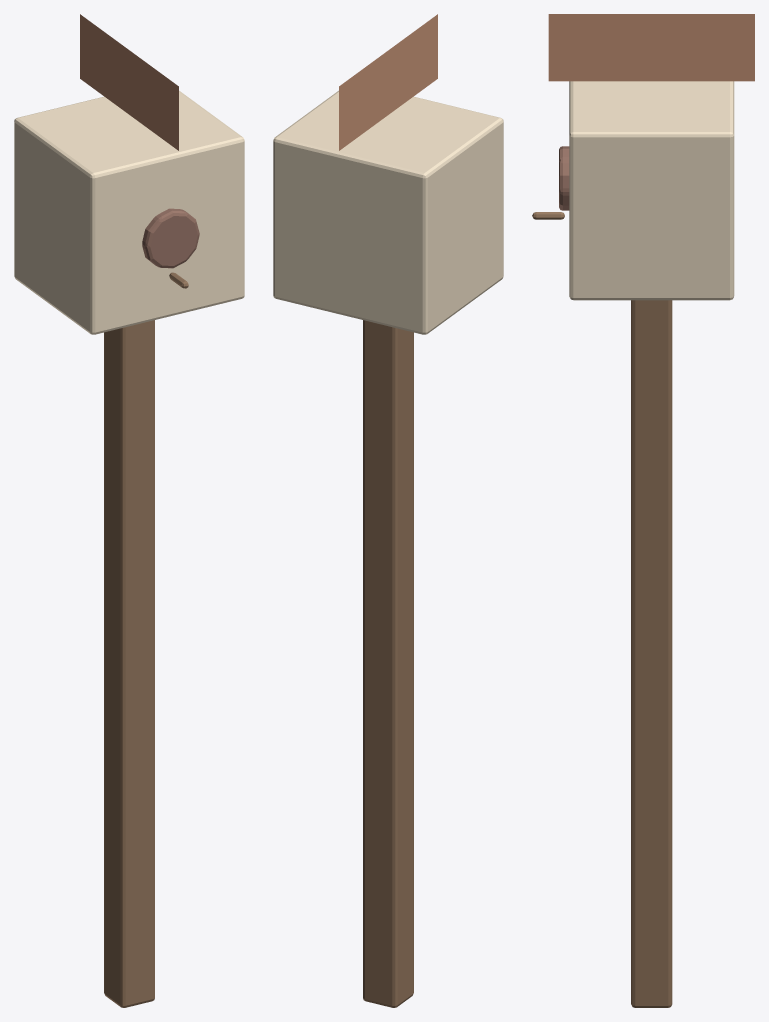
File: birdhouse.glb
3 renders of one model, left to right at view 1: azimuth 30°, elevation 25°; view 2: azimuth 150°, elevation 25°; view 3: azimuth 270°, elevation 25°, orthographic. The views are drawn at different scales.
Visible parts, largest first — view 1: Birdhouse; view 2: Birdhouse; view 3: Birdhouse.
Boxes of the visible parts, <box> form: Birdhouse: <box>14,14,244,1007</box>; Birdhouse: <box>273,14,503,1007</box>; Birdhouse: <box>532,14,754,1007</box>.
Size of the model in its own units: 0.45 by 2.64 by 0.54.
